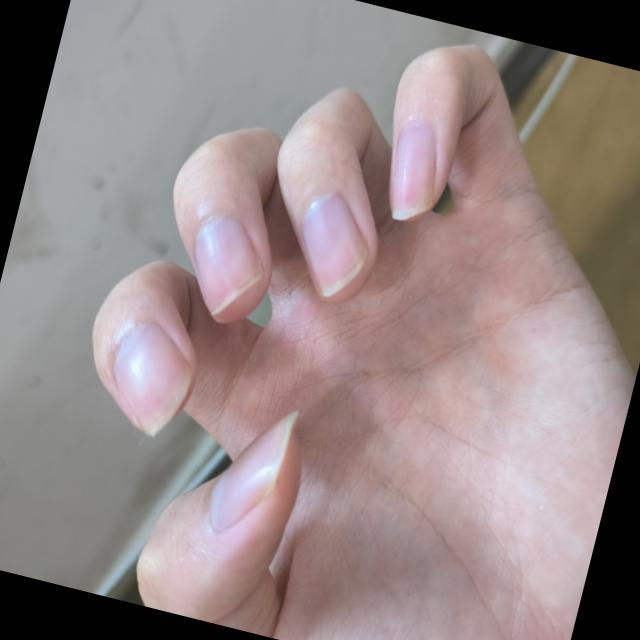Nail: (211, 412, 299, 528), (114, 324, 193, 430), (299, 191, 367, 293), (195, 215, 262, 314), (392, 118, 437, 217)
